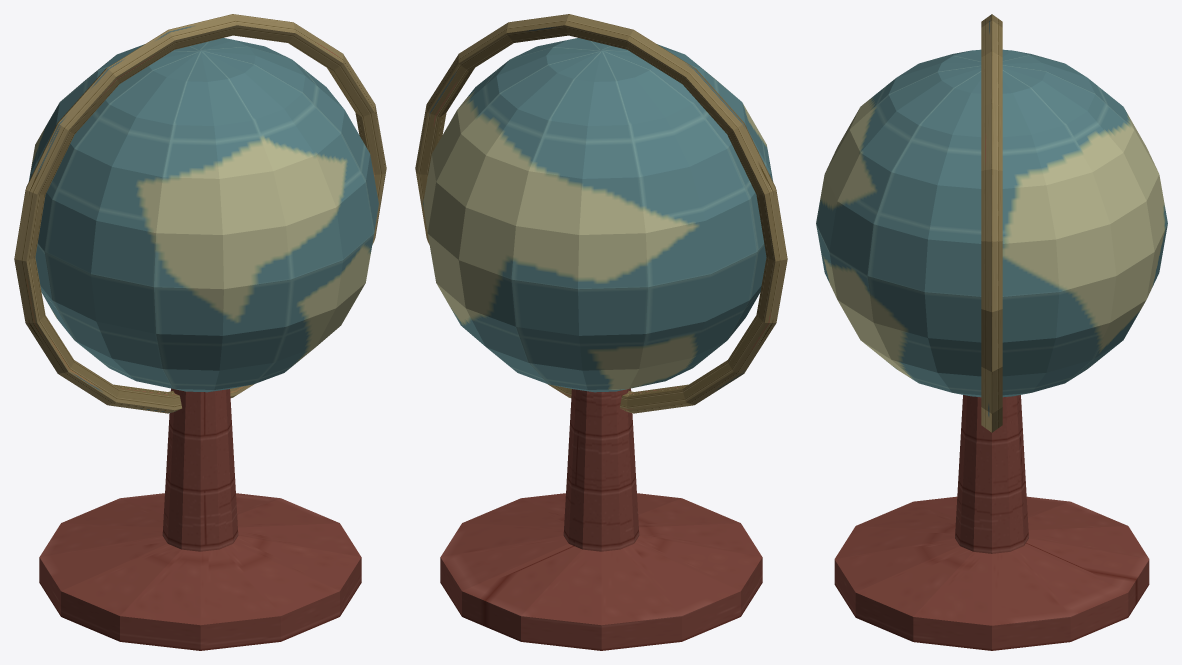
File: MD_124_Globe.fbx
3 views of the same model, side by side, from view 1: azimuth 30°, elevation 25°; view 2: azimuth 150°, elevation 25°; view 3: azimuth 270°, elevation 25° (orthographic). The views are drawn at different scales.
Parts seen in each view (by area): view 1: MD_124_Globe_globe, MD_124_Globe_globe_stand, MD_124_Globe_meridian_frame; view 2: MD_124_Globe_globe, MD_124_Globe_globe_stand, MD_124_Globe_meridian_frame; view 3: MD_124_Globe_globe, MD_124_Globe_globe_stand, MD_124_Globe_meridian_frame.
Part boxes in pixels (<box>): MD_124_Globe_globe: <box>28,38,378,392</box>; MD_124_Globe_globe_stand: <box>39,388,361,650</box>; MD_124_Globe_meridian_frame: <box>14,14,386,413</box>; MD_124_Globe_globe: <box>423,38,773,392</box>; MD_124_Globe_globe_stand: <box>440,388,762,650</box>; MD_124_Globe_meridian_frame: <box>415,14,787,413</box>; MD_124_Globe_globe: <box>816,49,1167,397</box>; MD_124_Globe_globe_stand: <box>834,395,1149,650</box>; MD_124_Globe_meridian_frame: <box>981,14,1002,432</box>.
Size of the model in its own units: 0.454 by 0.6536 by 0.38.
3 materials, 3 textured.
